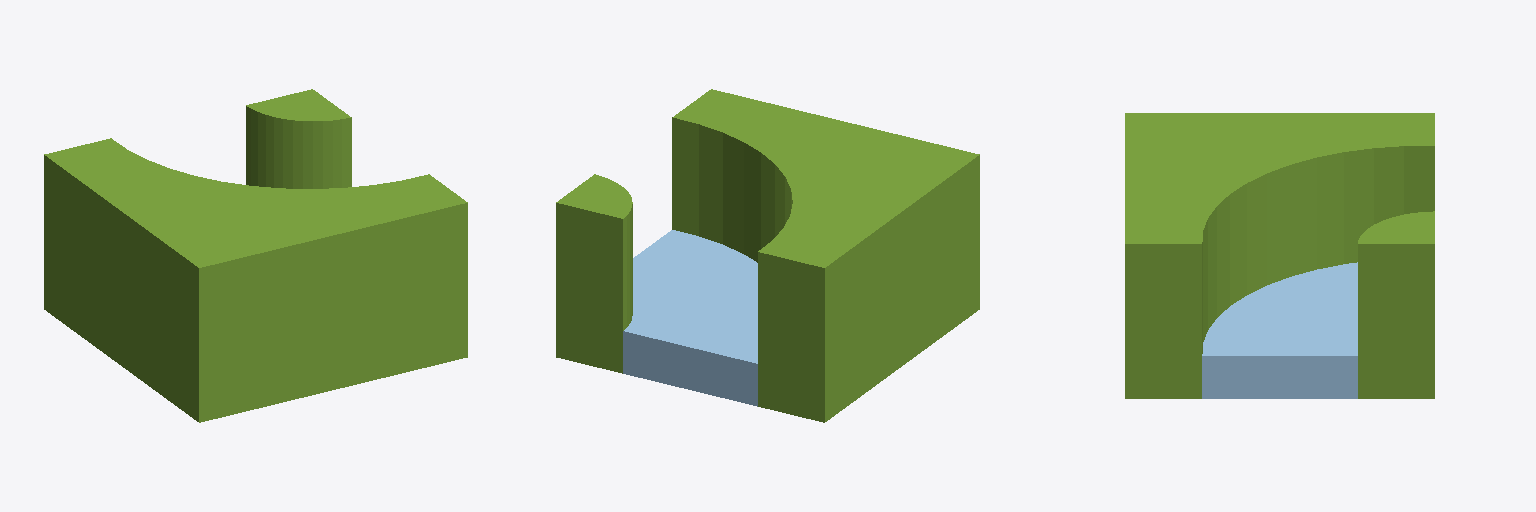
The picture shows the model from 3 angles: view 1: azimuth 30°, elevation 25°; view 2: azimuth 150°, elevation 25°; view 3: azimuth 270°, elevation 25°; orthographic projection.
Visible parts, largest first — view 1: roadTile_186.001; view 2: roadTile_186.001; view 3: roadTile_186.001.
Boxes of the visible parts, x1,y1,x2,y2 form: roadTile_186.001: [44, 89, 467, 422]; roadTile_186.001: [556, 89, 979, 422]; roadTile_186.001: [1125, 113, 1434, 398].
Size of the model in its own units: 3 by 1.65 by 3.